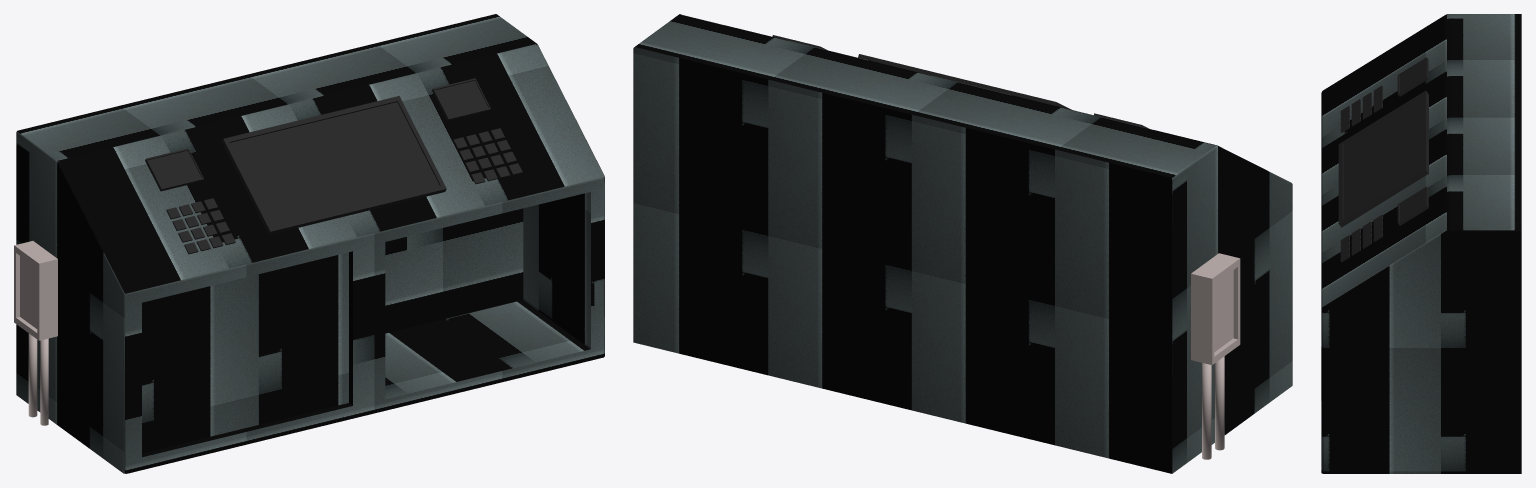
Rendered from control_panel 02.fbx.
3 renders of one model, left to right at view 1: azimuth 30°, elevation 25°; view 2: azimuth 150°, elevation 25°; view 3: azimuth 270°, elevation 25°, orthographic. The views are drawn at different scales.
Parts seen in each view (by area): view 1: base control 04, screen_fullHD 04, ebox_legs 04, buttons 04, smalle_screens 04; view 2: base control 04, ebox_legs 04, screen_fullHD 04; view 3: base control 04, screen_fullHD 04, buttons 04, smalle_screens 04.
Boxes of the visible parts, x1,y1,x2,y2 form: base control 04: [16, 14, 604, 473]; screen_fullHD 04: [221, 96, 446, 234]; ebox_legs 04: [14, 241, 57, 425]; buttons 04: [166, 128, 522, 254]; smalle_screens 04: [145, 78, 490, 191]; base control 04: [633, 14, 1292, 473]; ebox_legs 04: [1191, 253, 1240, 459]; screen_fullHD 04: [858, 54, 1071, 109]; base control 04: [1321, 14, 1521, 473]; screen_fullHD 04: [1338, 90, 1428, 227]; buttons 04: [1340, 85, 1382, 262]; smalle_screens 04: [1397, 57, 1428, 225].
Bounding box in the file's own units: 237 × 120 × 88.87.
